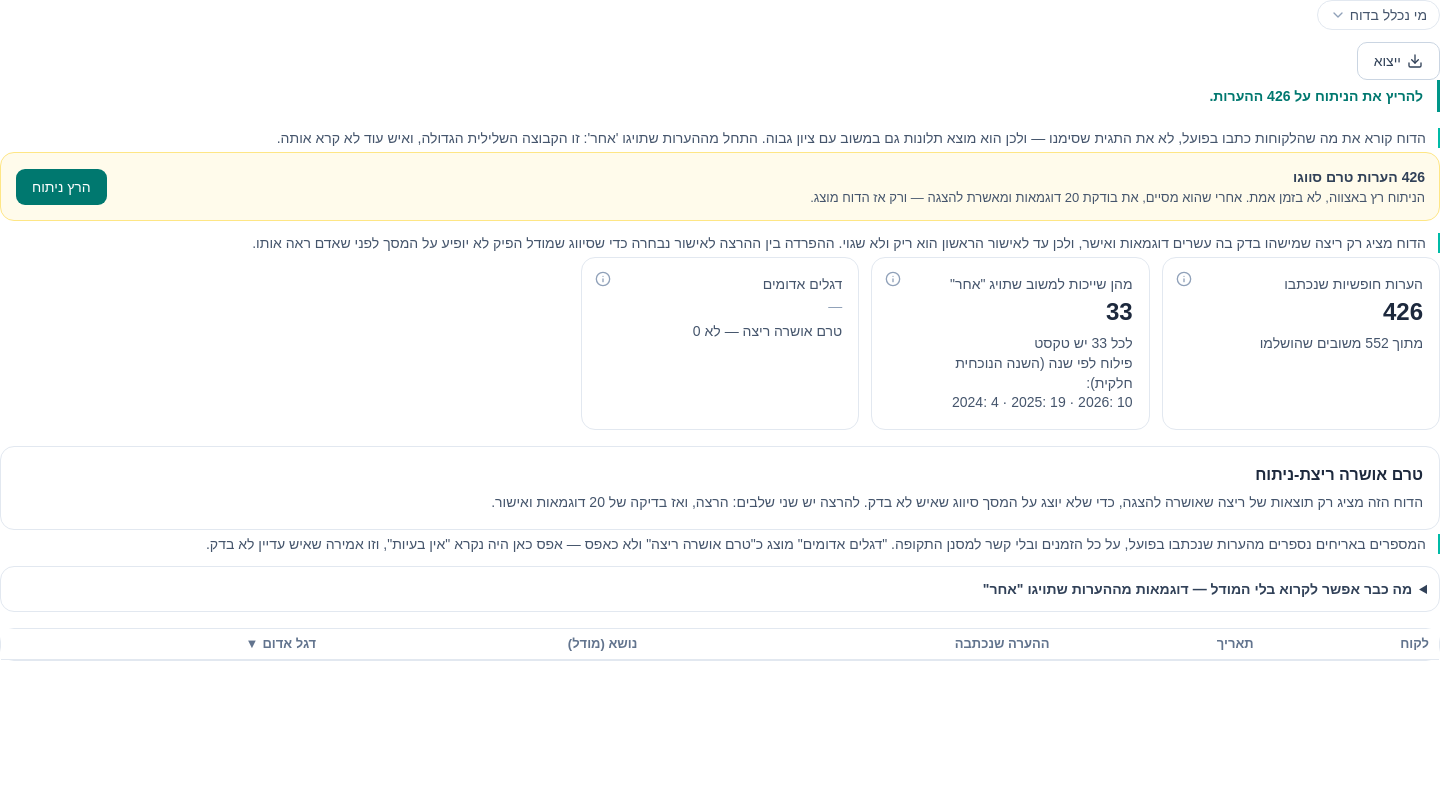
מ22 · ניתוח הערות + מ25 · פס-הניתוח › תשובת-שגיאה של פונקציית-השרת מוצגת בעברית מתוך גוף-התשובה ולא כטקסט של הספרייה
Click the button with test id "m25-run-button" at (61, 187), box [15, 168, 108, 206]
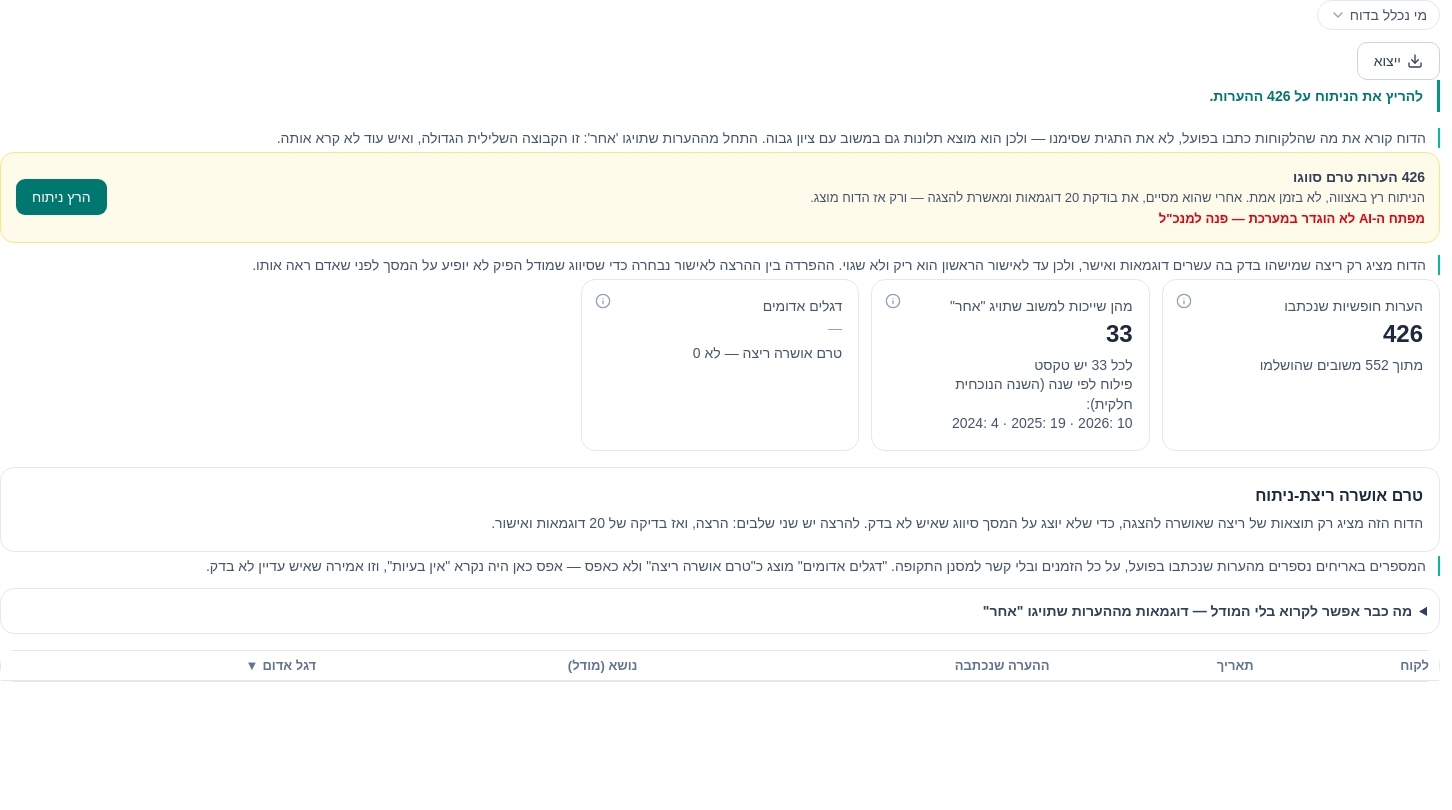
Expected: the message shows "מפתח ה-AI לא הוגדר במערכת", [1159, 211, 1425, 226]
